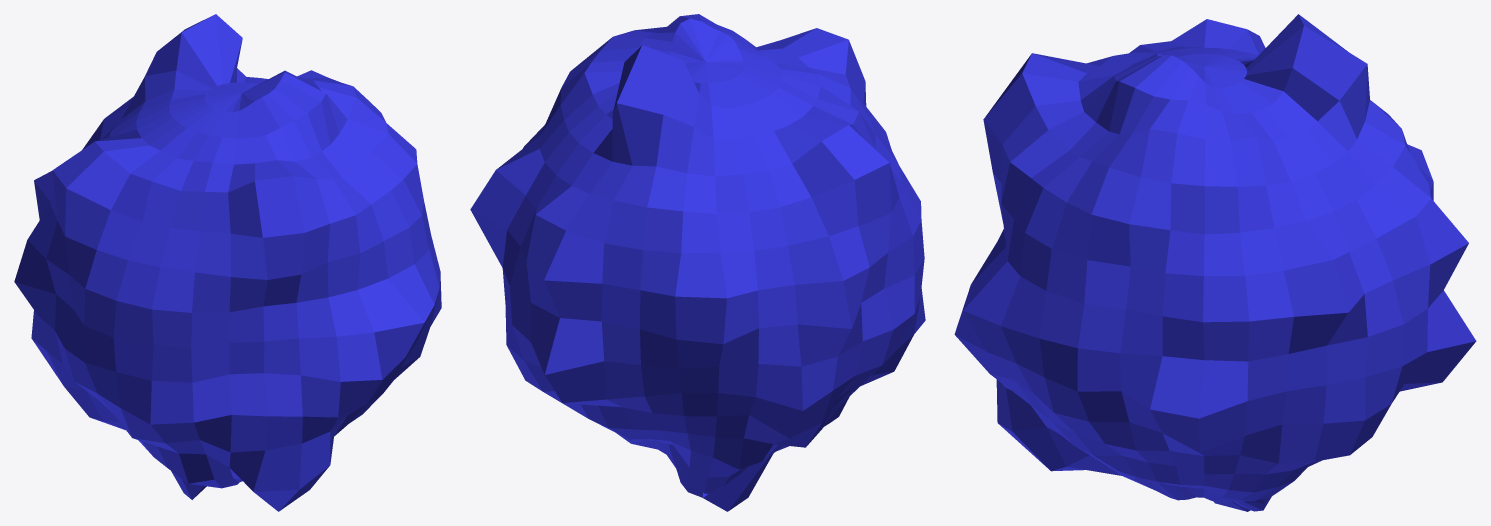
3 renders of one model, left to right at view 1: azimuth 30°, elevation 25°; view 2: azimuth 150°, elevation 25°; view 3: azimuth 270°, elevation 25°, orthographic. The views are drawn at different scales.
Parts seen in each view (by area): view 1: Sphere; view 2: Sphere; view 3: Sphere.
Part boxes in pixels (x1,y1,x2,y2): Sphere: (14, 14, 441, 511); Sphere: (470, 14, 925, 511); Sphere: (954, 14, 1476, 511).
Bounding box in the file's own units: 2.25 × 2.59 × 2.37.
